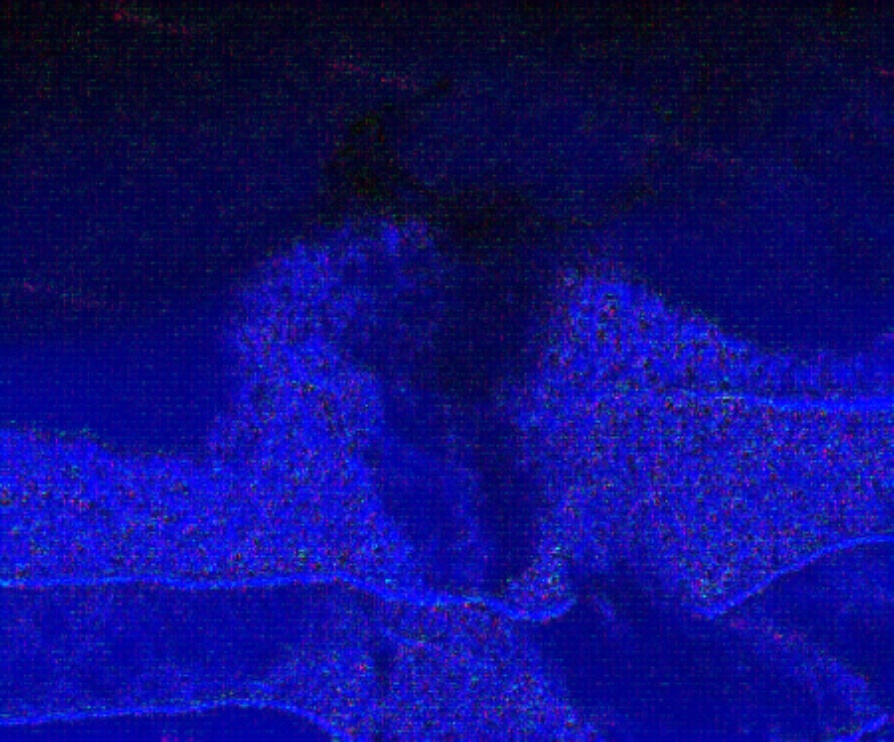rip_current: (284, 144, 620, 625)
